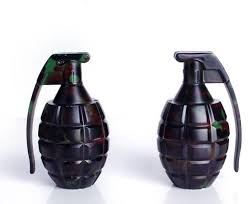e1: (156, 50, 241, 190), (26, 53, 109, 189)
